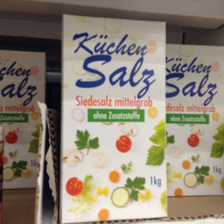spices: (61, 12, 167, 224), (166, 44, 224, 198), (1, 49, 46, 190)
